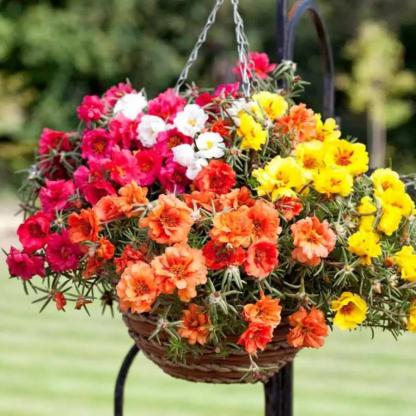Rose-Mawar: (8, 53, 416, 376)
